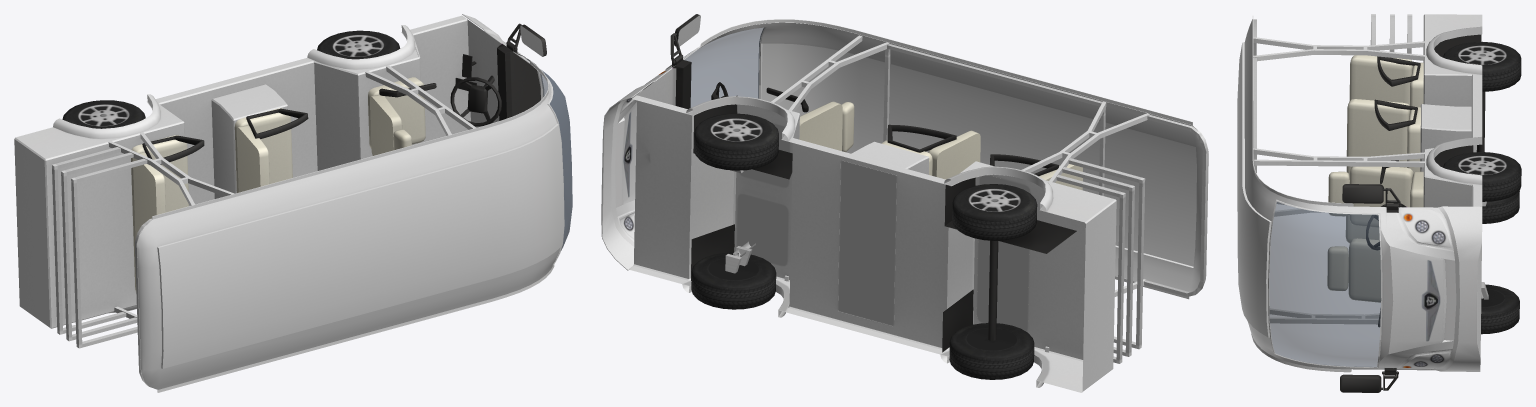
Rendered from buggy_rot.glb.
The picture shows the model from 3 angles, left to right: view 1: azimuth 30°, elevation 25°; view 2: azimuth 150°, elevation 25°; view 3: azimuth 270°, elevation 25°; orthographic projection. The views are drawn at different scales.
Parts seen in each view (by area): view 1: buggy; view 2: buggy; view 3: buggy.
Part boxes in pixels (box(x1,y1,x2,y2)): buggy: box(14, 14, 572, 392); buggy: box(601, 14, 1208, 392); buggy: box(1237, 14, 1521, 392).
Size of the model in its own units: 4.38 by 1.95 by 2.38.
Materials: 2 (2 with a texture image).
